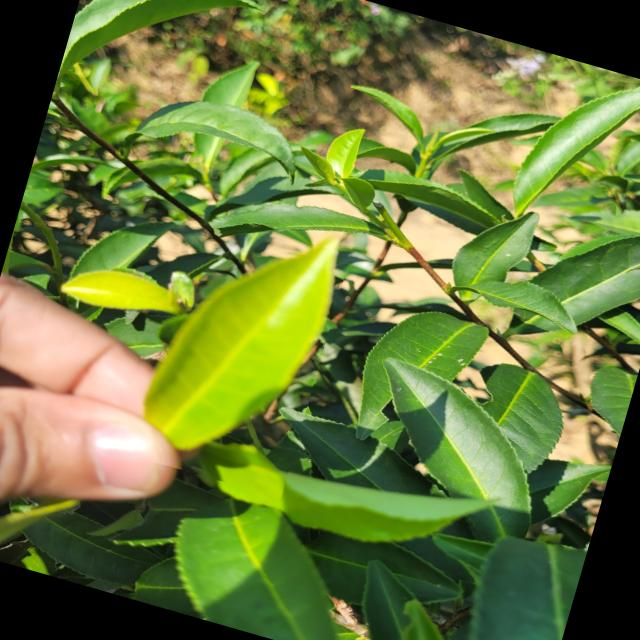Catagory A(1-2 days): (112, 173, 360, 498)
